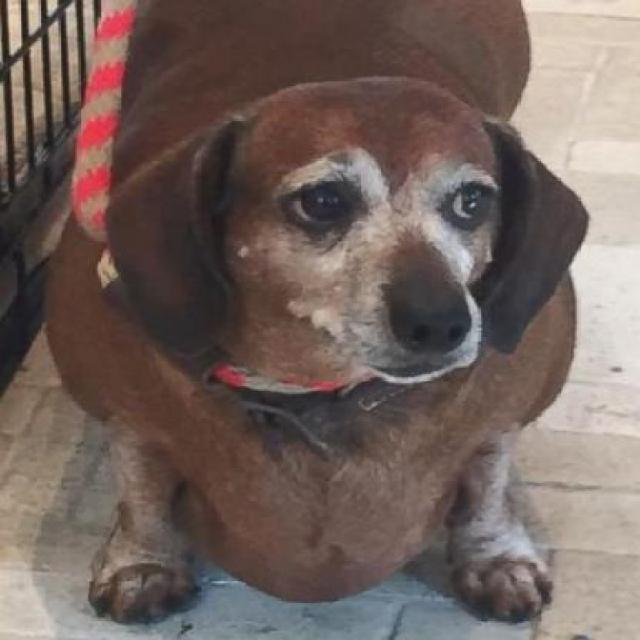Dog: (46, 6, 599, 629)
